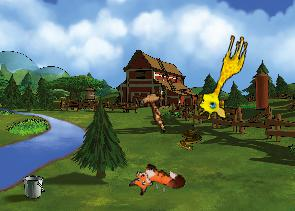eagle: (124, 78, 183, 133)
fox: (126, 157, 187, 208)
giraffe: (195, 29, 250, 124)
